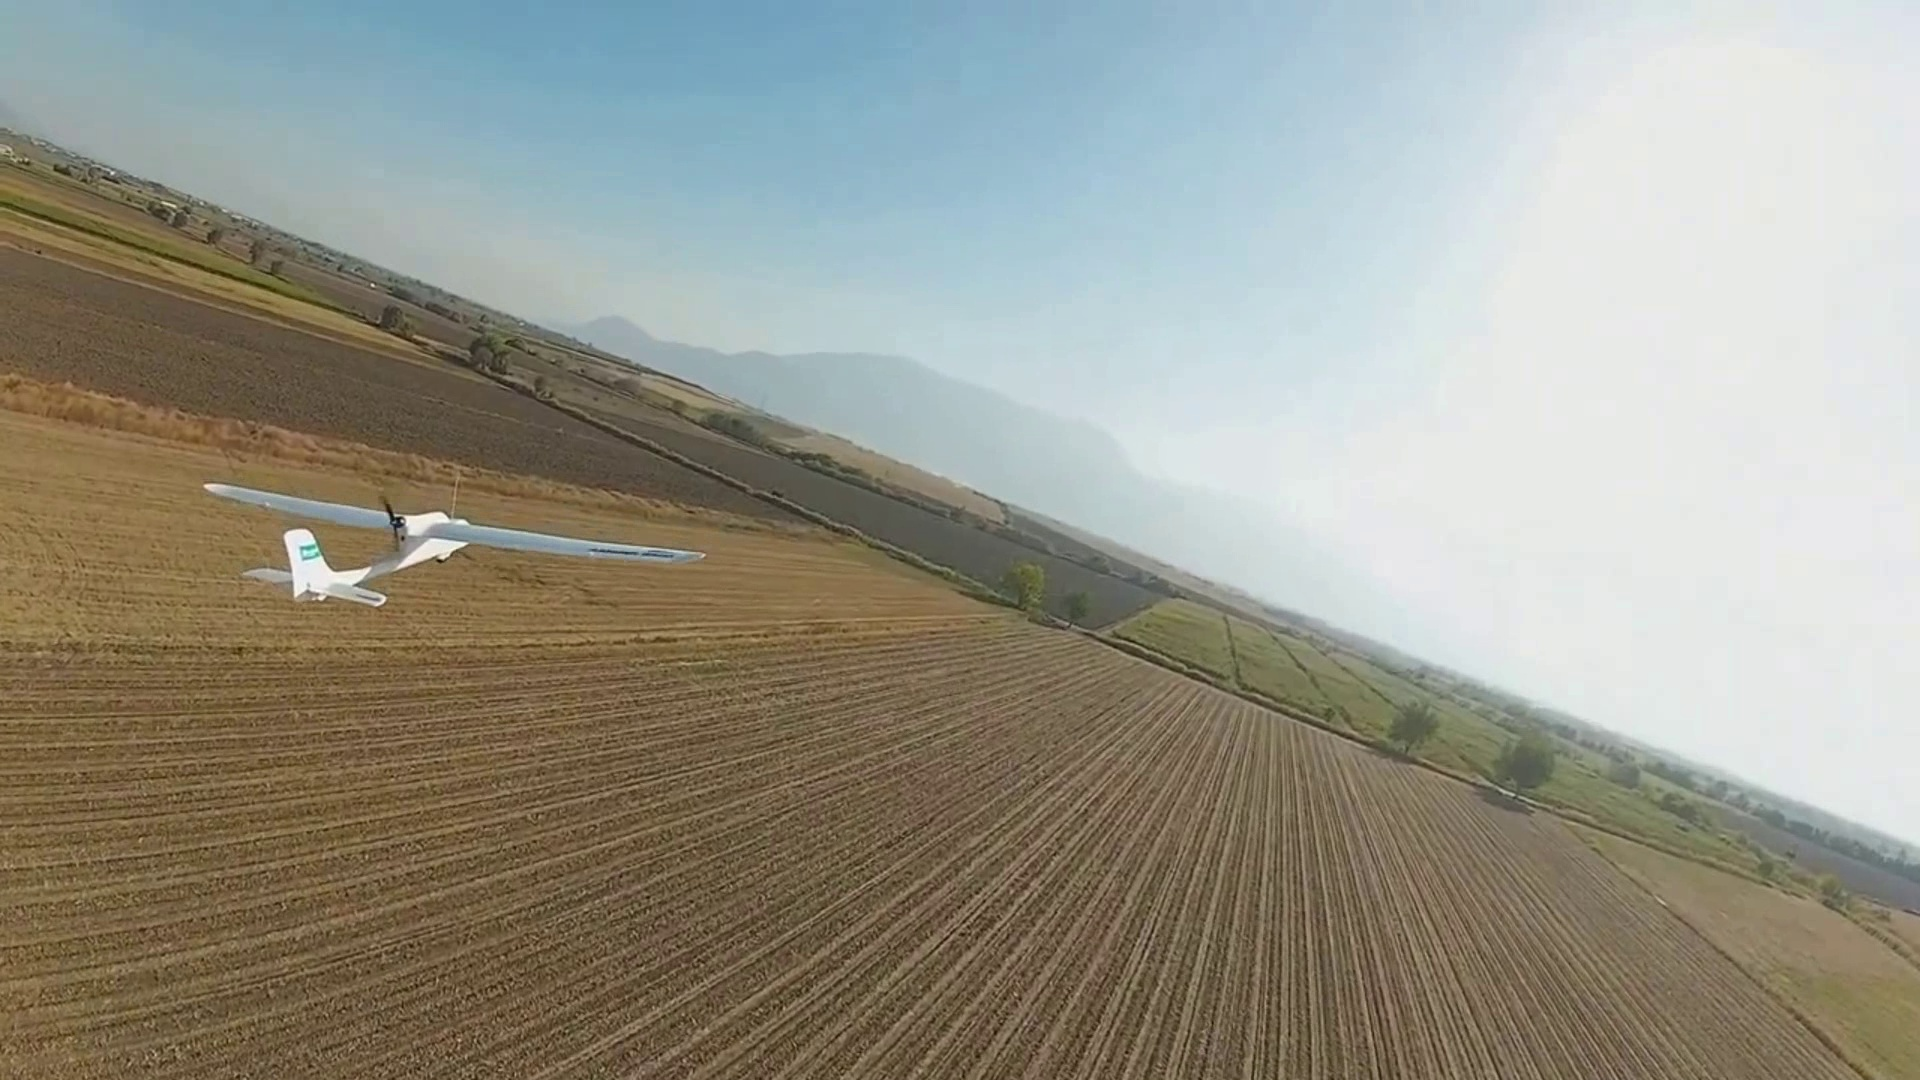airplane: (16, 187, 1920, 877), (202, 473, 700, 612), (200, 480, 468, 611)
